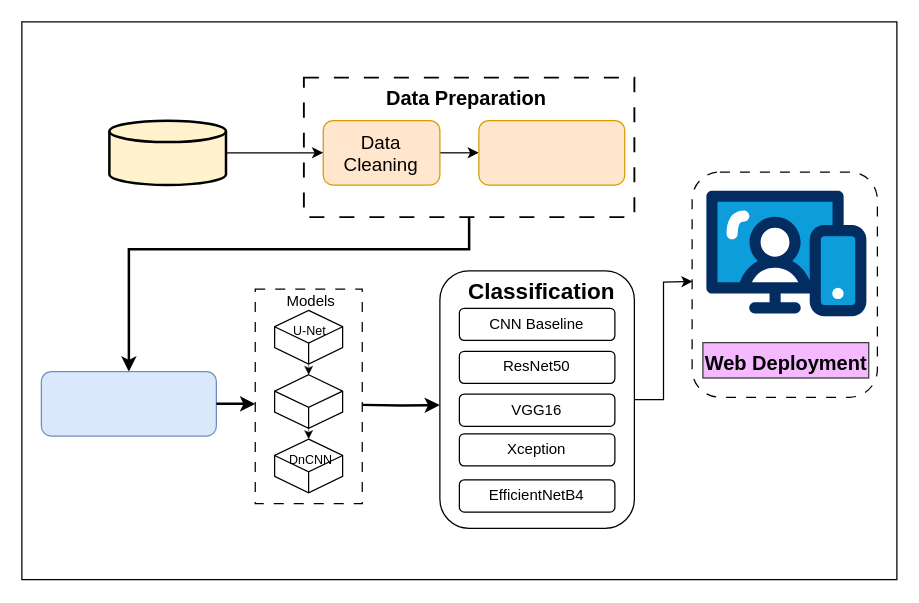
This 919x603 diagram has some shape labels left out. Each missing label, with the box of its shape:
EDSR: (273, 374, 343, 428)
Enhancement: (40, 370, 216, 436)
Image Preprocessing: (478, 119, 625, 185)
Raw MRI: (108, 119, 227, 186)
